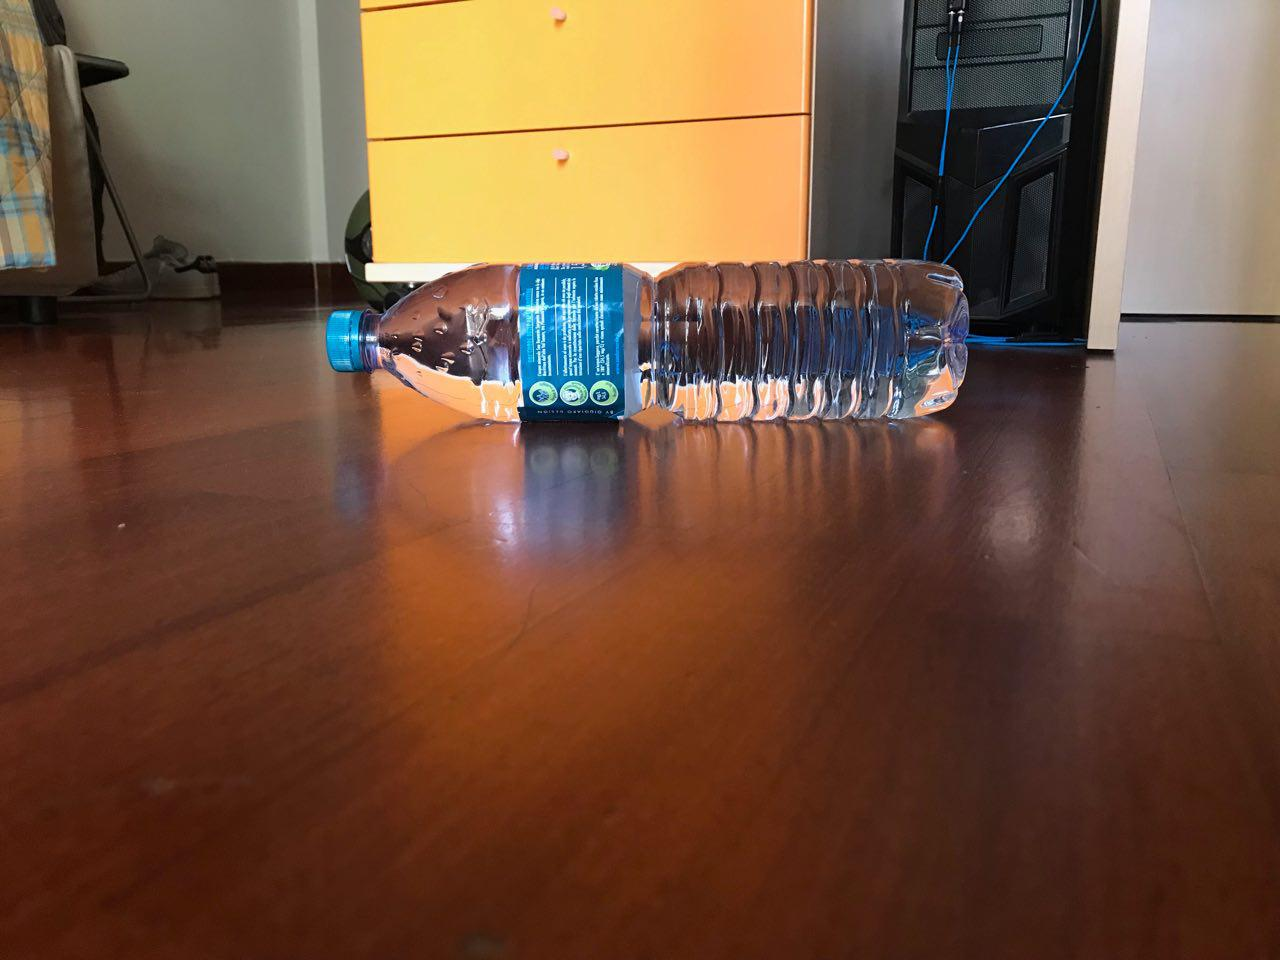san_bernardo: (325, 257, 972, 423)
